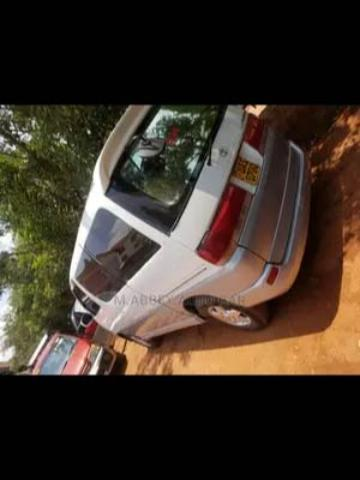van: (67, 100, 308, 346)
